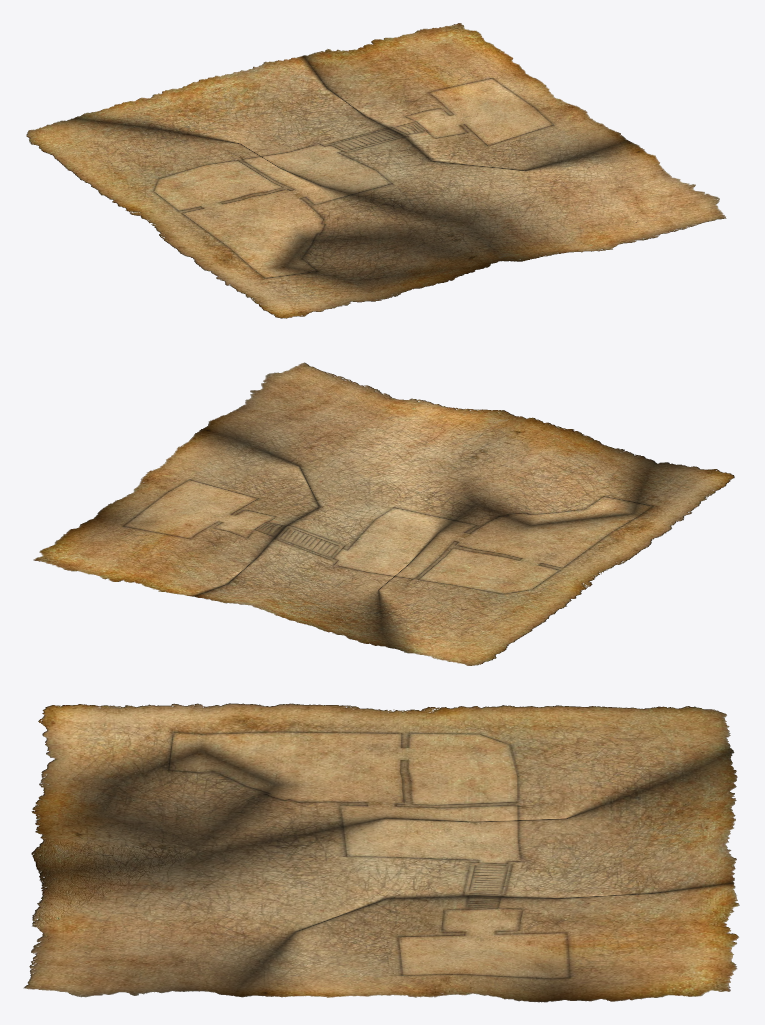
File: KM_BUILDING_PLAN_01.glb
3 views of the same model, one above another, from view 1: azimuth 30°, elevation 25°; view 2: azimuth 150°, elevation 25°; view 3: azimuth 270°, elevation 25° (orthographic). The views are drawn at different scales.
Parts seen in each view (by area): view 1: Mesh; view 2: Mesh; view 3: Mesh.
Part boxes in pixels (x1=…): Mesh: x1=26, y1=23, x2=726, y2=318; Mesh: x1=33, y1=362, x2=734, y2=665; Mesh: x1=23, y1=703, x2=739, y2=1002.
Bounding box in the file's own units: 0.9319 × 0.0369 × 0.9602.
1 material, 1 textured.
